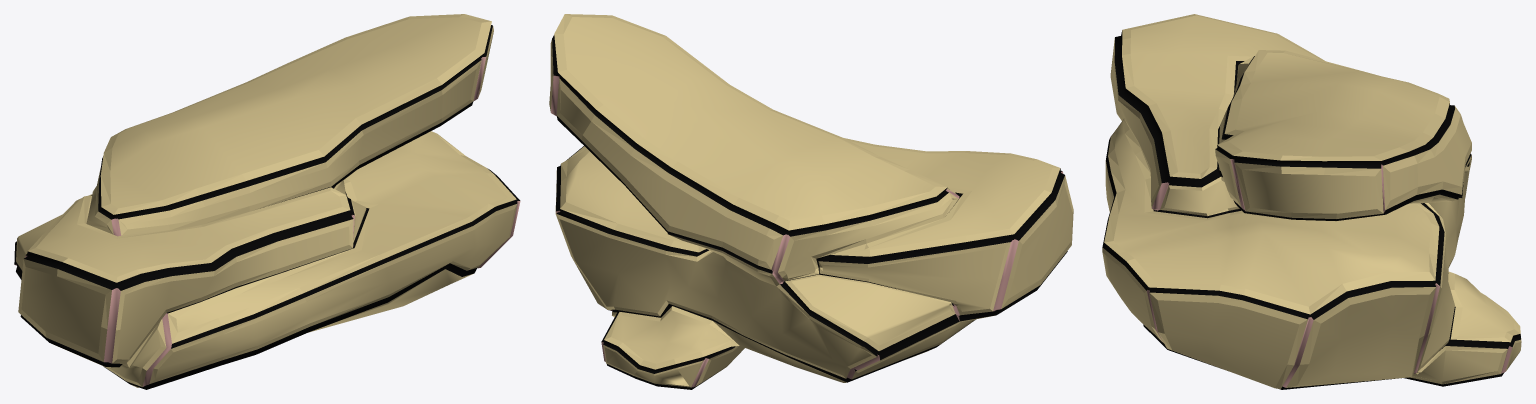
The model's file is piedra3diosmelibre.fbx.
The picture shows the model from 3 angles, left to right: view 1: azimuth 30°, elevation 25°; view 2: azimuth 150°, elevation 25°; view 3: azimuth 270°, elevation 25°; orthographic projection. The views are drawn at different scales.
Visible parts, largest first — view 1: Roca2; view 2: Roca2; view 3: Roca2.
Boxes of the visible parts, x1,y1,x2,y2 form: Roca2: (14, 14, 520, 389); Roca2: (549, 14, 1073, 389); Roca2: (1102, 14, 1521, 389).
Size of the model in its own units: 7.76 by 5.21 by 4.24.
